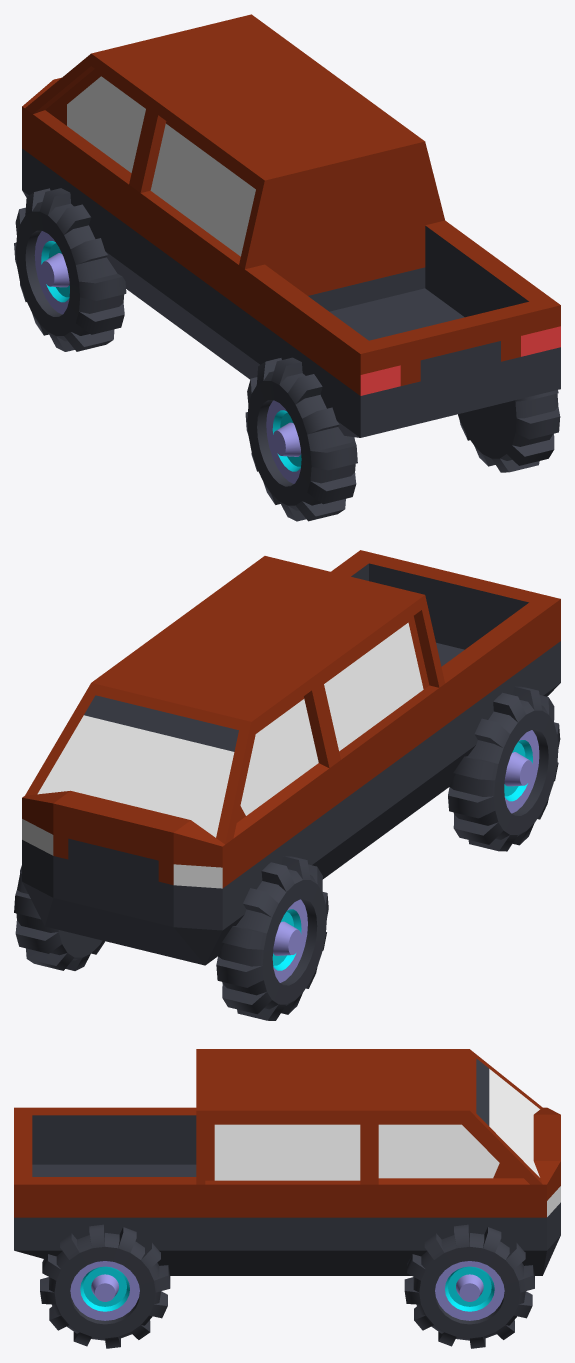
The model's file is obstacle_truck.glb.
The picture shows the model from 3 angles, top to bottom: view 1: azimuth 30°, elevation 25°; view 2: azimuth 150°, elevation 25°; view 3: azimuth 270°, elevation 25°; orthographic projection. The views are drawn at different scales.
Parts seen in each view (by area): view 1: mergedBlocks(Clone); view 2: mergedBlocks(Clone); view 3: mergedBlocks(Clone).
Boxes of the visible parts, <box> form: mergedBlocks(Clone): <box>14,14,560,521</box>; mergedBlocks(Clone): <box>14,550,560,1020</box>; mergedBlocks(Clone): <box>14,1049,560,1348</box>.
Bounding box in the file's own units: 1.23 × 1.36 × 3.
